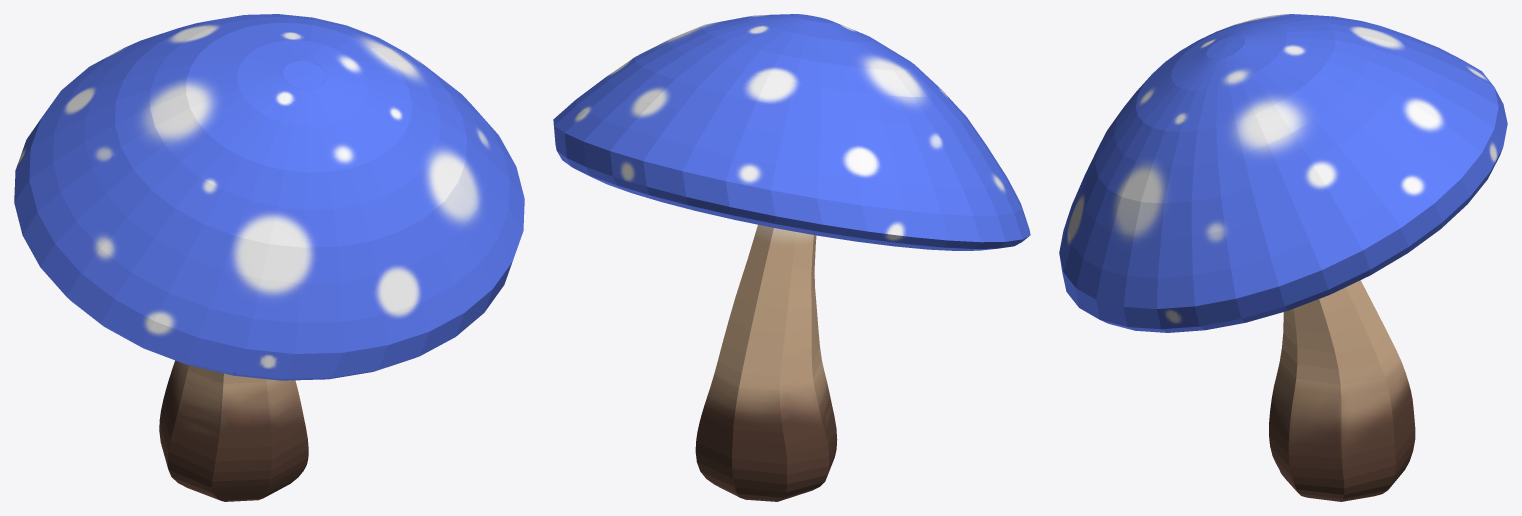
File: mushroom.fbx
3 views of the same model, side by side, from view 1: azimuth 30°, elevation 25°; view 2: azimuth 150°, elevation 25°; view 3: azimuth 270°, elevation 25° (orthographic). The views are drawn at different scales.
Visible parts, largest first — view 1: Cylinder, Cube; view 2: Cylinder, Cube; view 3: Cylinder, Cube.
Boxes of the visible parts, left/top/right/bottom form: Cylinder: left=14, top=14, right=524, bottom=380; Cube: left=159, top=360, right=308, bottom=501; Cylinder: left=553, top=14, right=1030, bottom=250; Cube: left=695, top=224, right=837, bottom=501; Cylinder: left=1059, top=14, right=1507, bottom=332; Cube: left=1269, top=280, right=1415, bottom=501.
Bounding box in the file's own units: 249 × 241 × 215.
